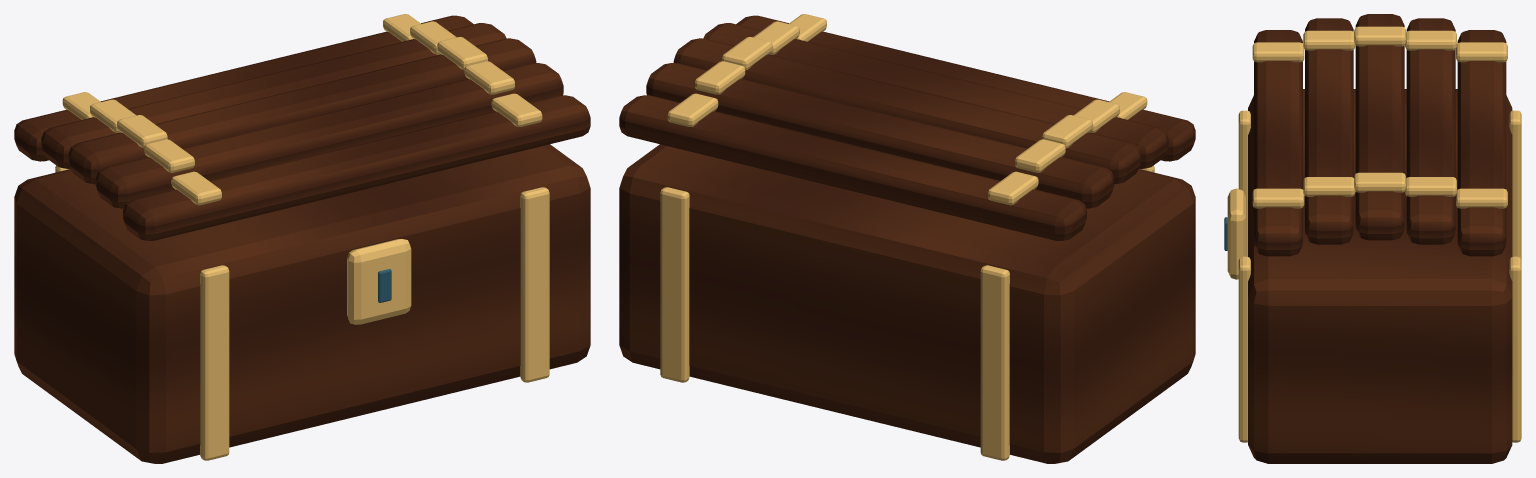
The model's file is lumo_treasure_chest.glb.
3 views of the same model, side by side, from view 1: azimuth 30°, elevation 25°; view 2: azimuth 150°, elevation 25°; view 3: azimuth 270°, elevation 25° (orthographic). The views are drawn at different scales.
Visible parts, largest first — view 1: lumo_treasure_chest; view 2: lumo_treasure_chest; view 3: lumo_treasure_chest.
Boxes of the visible parts, bbox=[...] form: lumo_treasure_chest: bbox=[14, 14, 590, 463]; lumo_treasure_chest: bbox=[619, 14, 1195, 463]; lumo_treasure_chest: bbox=[1224, 14, 1521, 463].
Bounding box in the file's own units: 2.4 × 1.43 × 1.46.
3 materials, 1 textured.
